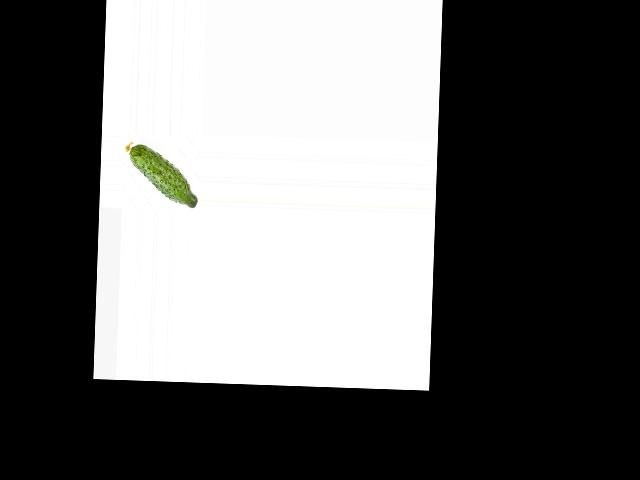cucumber: (123, 142, 198, 208)
